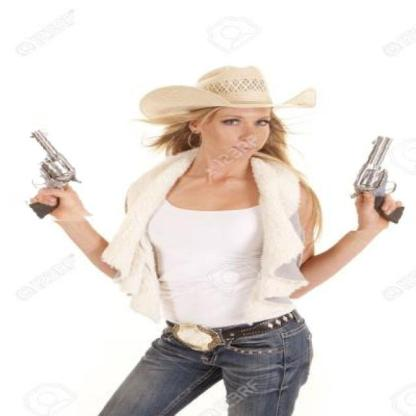handgun: (17, 124, 93, 223), (345, 131, 410, 230)
